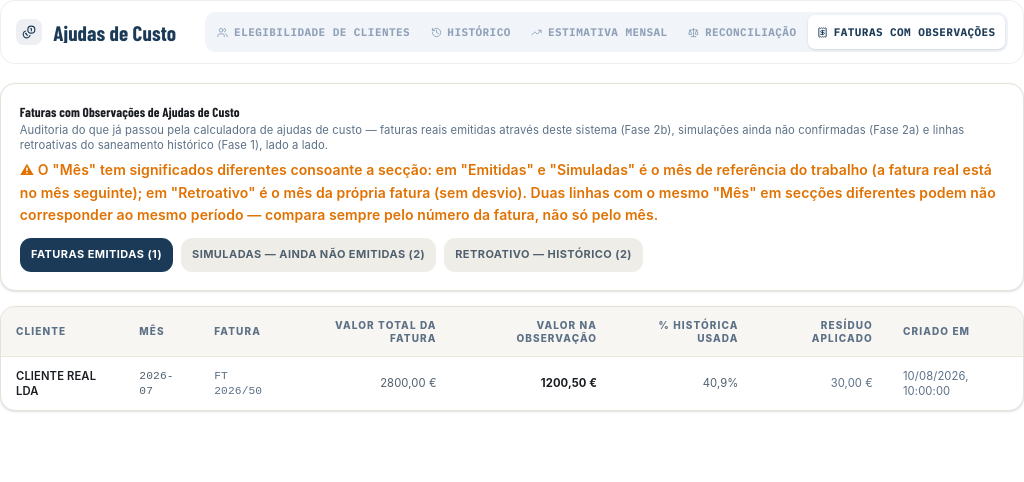
it: FaturasComObservacoesTab › alterna para a secção "Simuladas" e mostra as linhas de origem="estimativa" ainda não faturadas, com estado calculado/bloqueado
Expected: the text "FT 2026/50" is shown, x1=199 y1=357 x2=293 y2=410
Click the button "Simuladas — Ainda Não Emitidas (2)": (309, 255) x1=181 y1=238 x2=436 y2=272
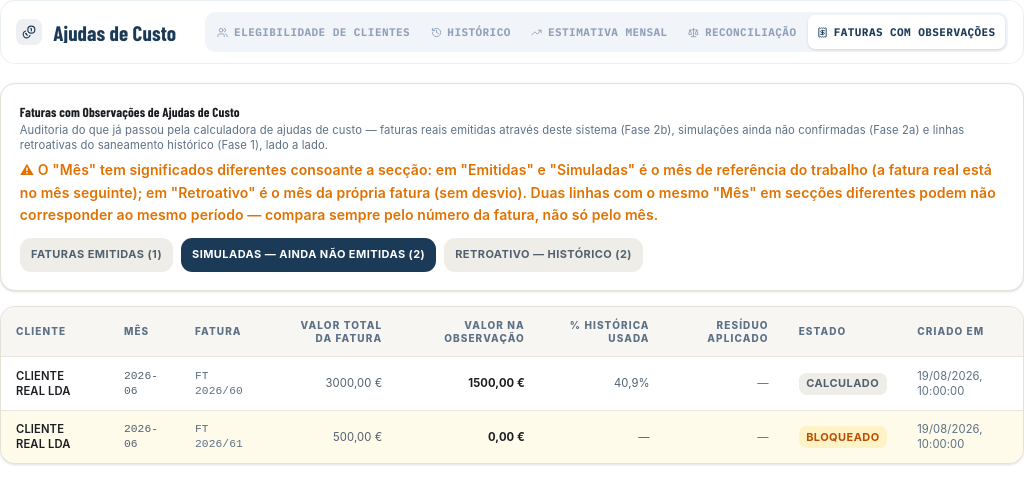
Expected: the text "FT 2026/60" is shown, x1=180 y1=357 x2=268 y2=410
Expected: the text "FT 2026/61" is shown, x1=180 y1=410 x2=268 y2=463
Expected: the text "FT 2026/50" is gone
